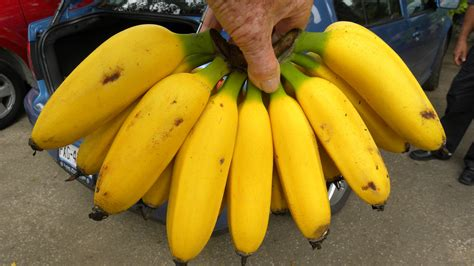banana: (25, 22, 193, 155), (88, 72, 219, 224), (313, 21, 452, 157), (287, 75, 393, 213), (162, 91, 243, 266), (262, 92, 333, 251), (225, 96, 276, 258)
